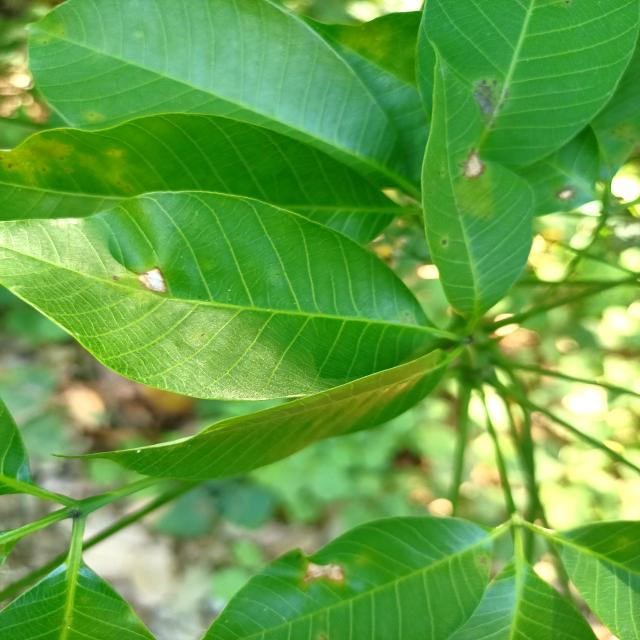Leaf-Blight: (304, 561, 344, 581), (137, 269, 167, 293), (464, 154, 483, 176)
